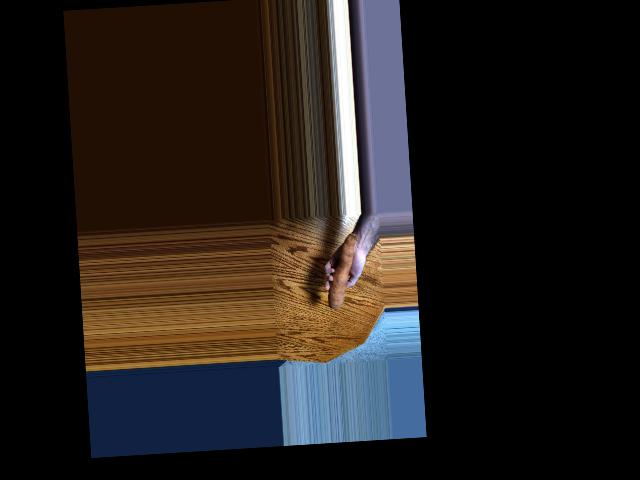sweet_potato: (320, 242, 357, 321)
